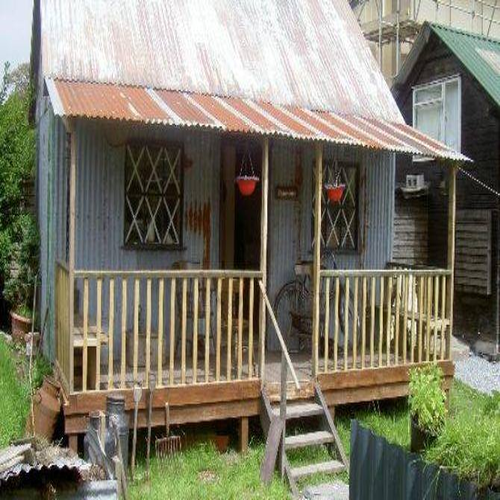Tin-shade House: (14, 5, 457, 393)
